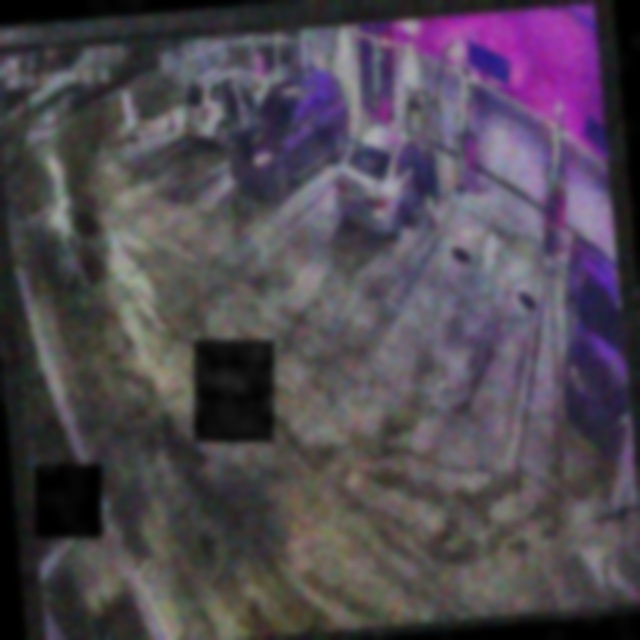Car: (221, 67, 357, 204), (328, 120, 444, 240), (179, 63, 274, 152)
